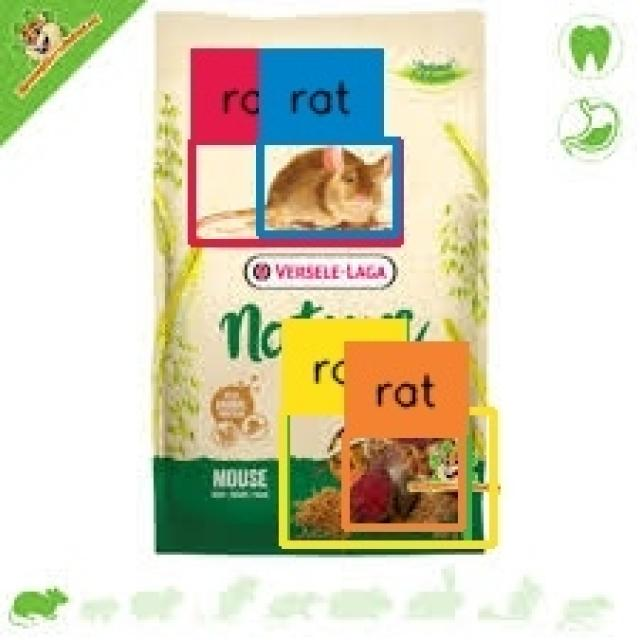rat: (283, 410, 494, 546), (286, 411, 468, 545), (191, 141, 401, 243), (260, 142, 397, 236), (346, 432, 462, 529)
